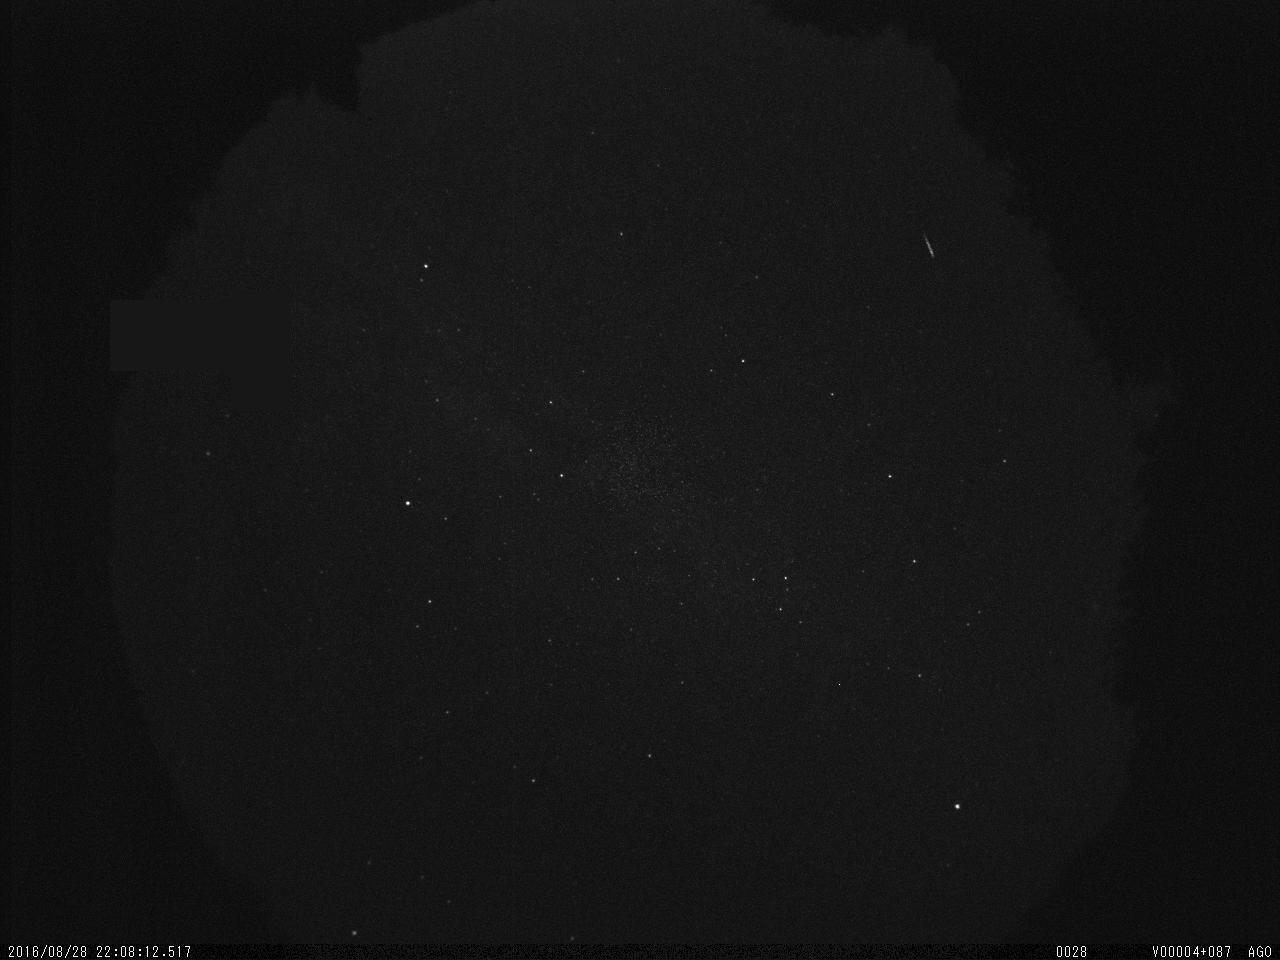meteor: (918, 230, 943, 262)
